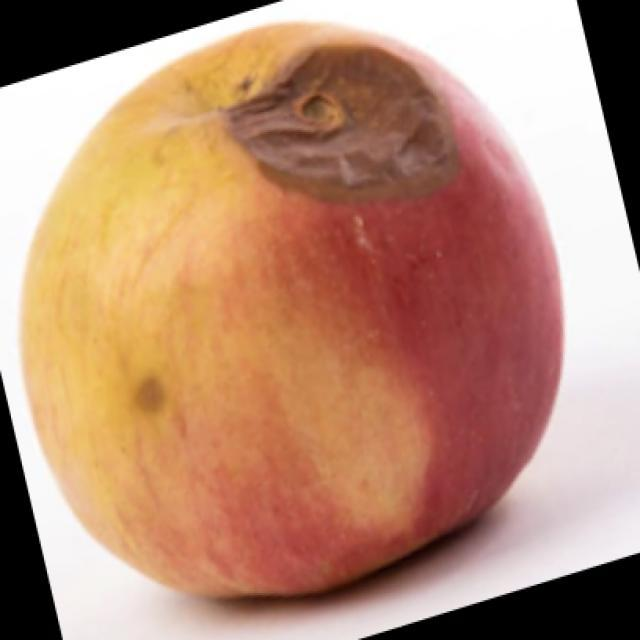Rotten: (42, 29, 553, 594)
